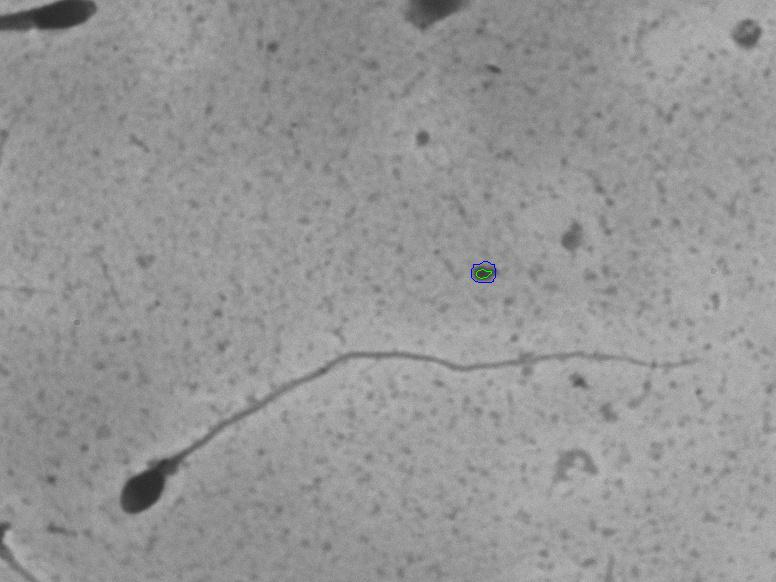Normal: (104, 333, 712, 533)
